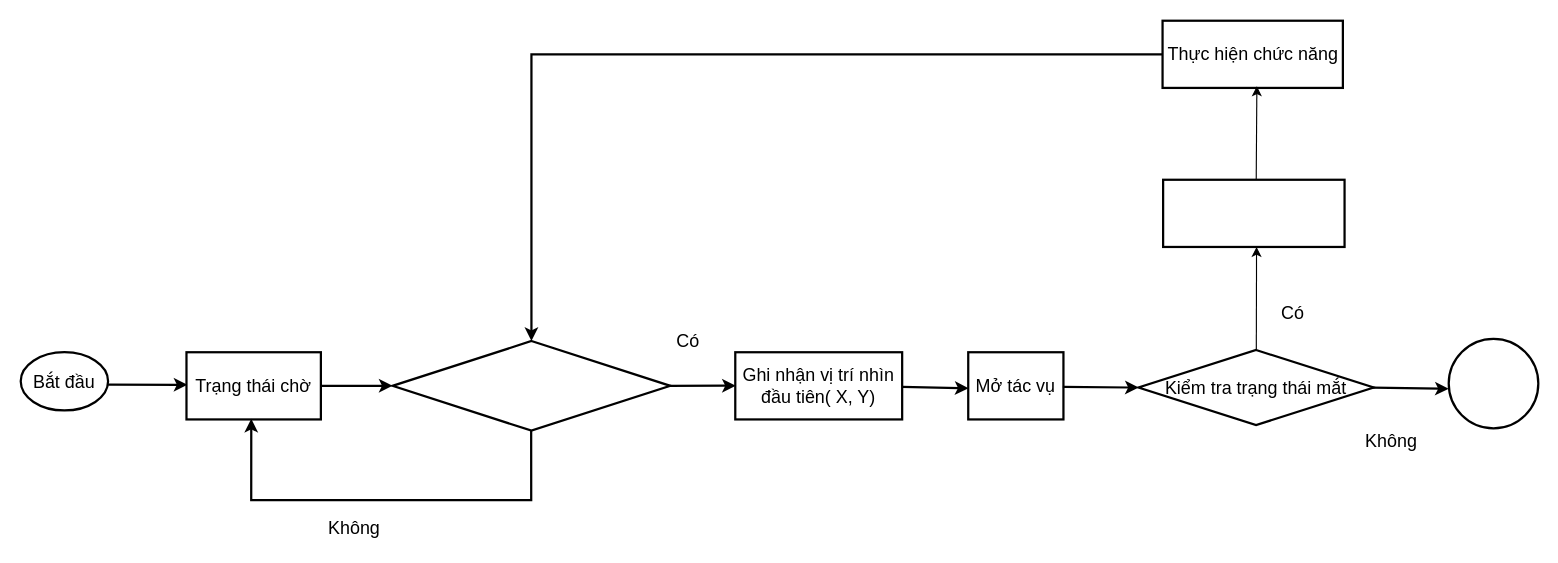
Image size: 1558x563. Some labels were removed from this diagram. Here are the shapes that lost their labels. From the top down, the centre of each, then its label:
the point at 1253,213: Ghi nhận vị trí nhìn tiếp theo( X, Y)
the point at 531,385: Phát hiện chuyển động mắt
the point at 1493,383: Kết thúc
